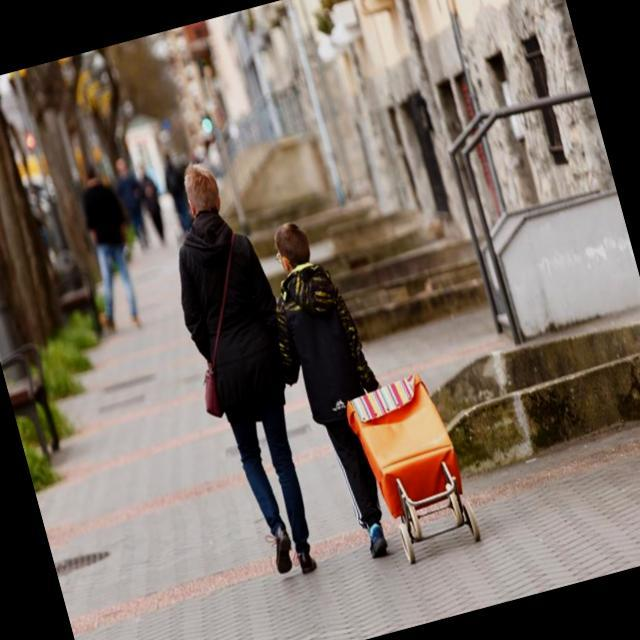person: (140, 145, 343, 594), (243, 210, 435, 581)
